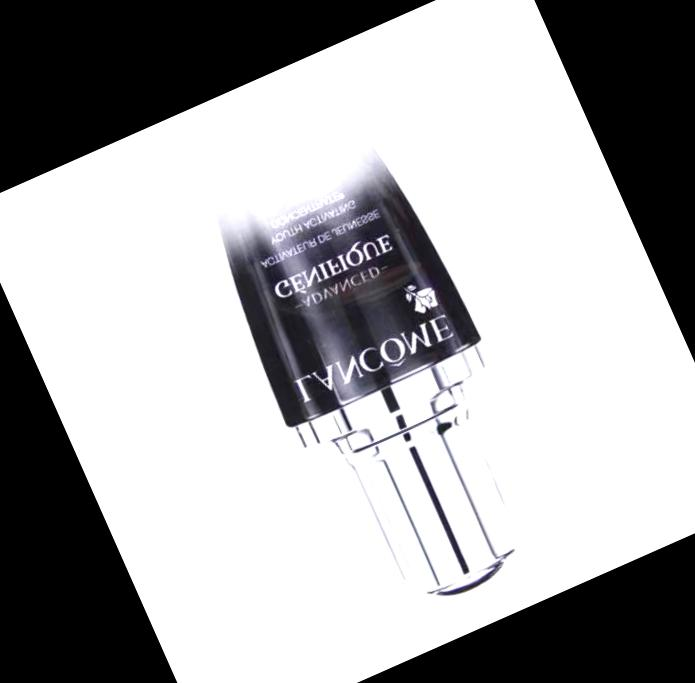cosmetic: (168, 69, 576, 632)
